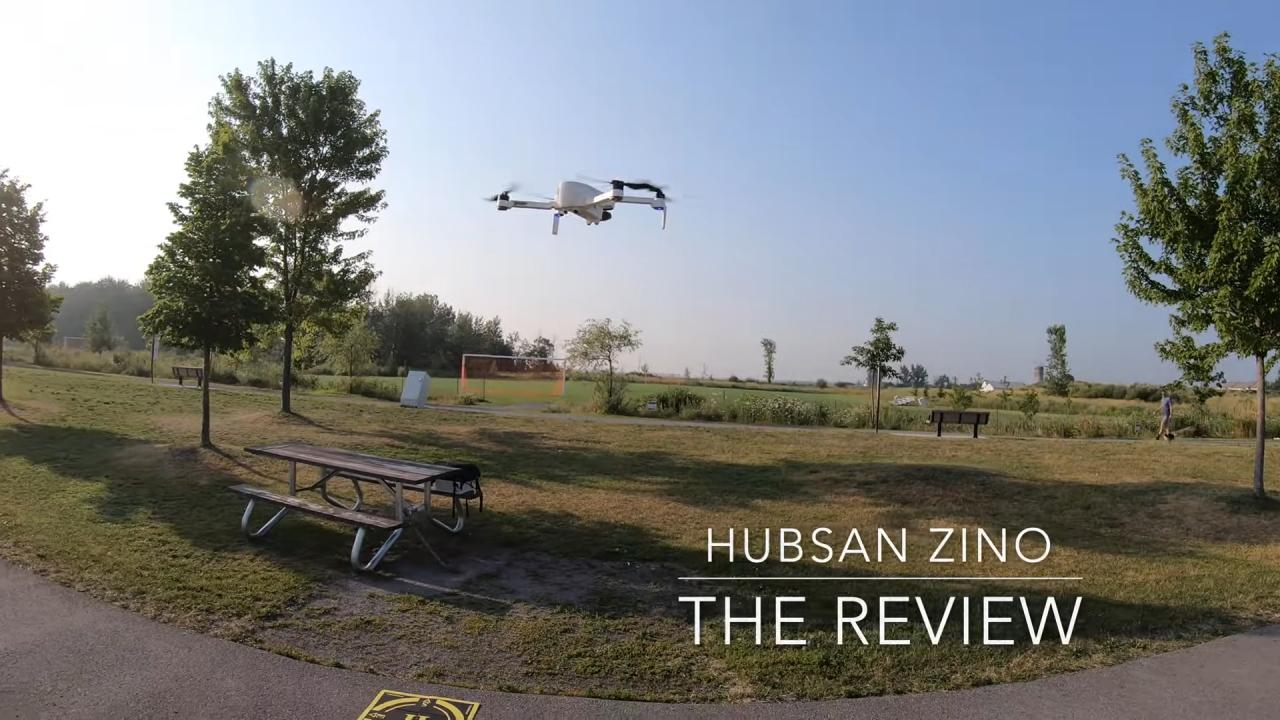Drone: (462, 158, 686, 248)
